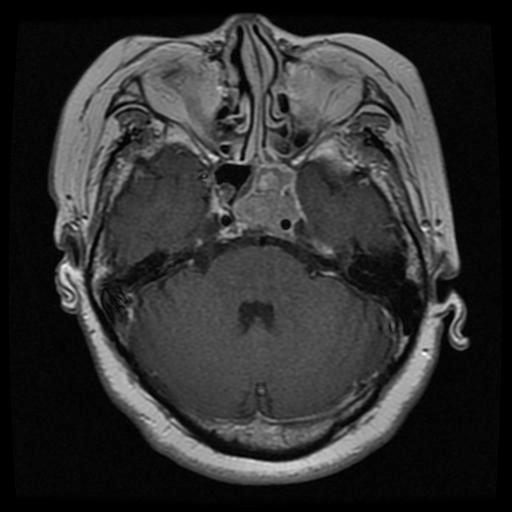Tumour-Pituitary: (198, 168, 308, 239)
